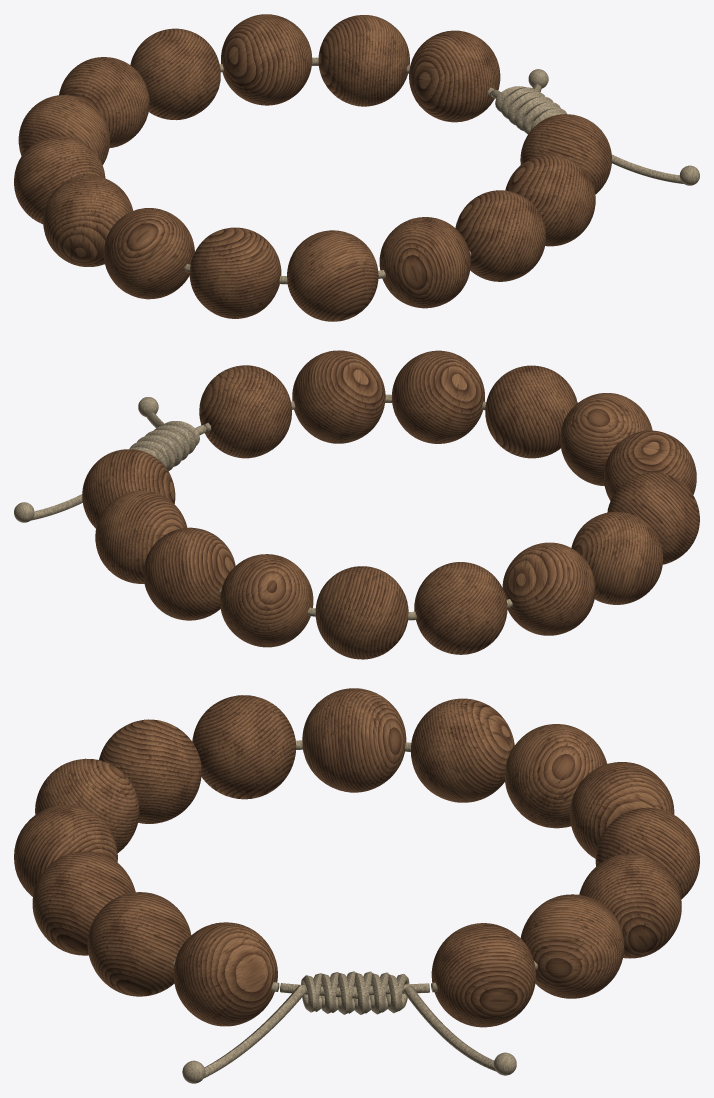
The model's file is orzech.glb.
3 views of the same model, one above another, from view 1: azimuth 30°, elevation 25°; view 2: azimuth 150°, elevation 25°; view 3: azimuth 270°, elevation 25° (orthographic). The views are drawn at different scales.
Parts seen in each view (by area): view 1: bead_round_1.003, bead_round_1, bead_round_0.003, bead_round_2, bead_round_2.003, bead_round_0, bead_round_2.002, bead_round_0.004, bead_round_0.001, bead_round_1.002, bead_round_1.004, bead_round_1.001 (+4 smaller); view 2: bead_round_1.001, bead_round_1.004, bead_round_0.001, bead_round_0.004, bead_round_2.001, bead_round_0.002, bead_round_2.004, bead_round_2, bead_round_2.003, bead_round_1.002, bead_round_1, bead_round_1.003 (+3 smaller); view 3: bead_round_0, bead_round_1.002, bead_round_2.004, bead_round_0.002, bead_round_2.002, bead_round_1, bead_round_1.004, bead_round_2.001, bead_round_0.003, bead_round_2, bead_round_0.004, bead_round_1.001 (+5 smaller).
Boxes of the visible parts, x1,y1,x2,y2 form: bead_round_1.003: (287,230,378,321); bead_round_1: (318,15,409,106); bead_round_0.003: (189,227,281,318); bead_round_2: (221,14,312,105); bead_round_2.003: (379,217,470,308); bead_round_0: (409,30,500,122); bead_round_2.002: (103,208,194,299); bead_round_0.004: (455,190,546,281); bead_round_0.001: (130,28,220,120); bead_round_1.002: (43,175,133,266); bead_round_1.004: (505,154,595,246); bead_round_1.001: (59,57,149,148); bead_round_1.001: (315,566,408,659); bead_round_1.004: (292,350,385,443); bead_round_0.001: (220,554,313,647); bead_round_0.004: (391,350,484,443); bead_round_2.001: (414,562,507,654); bead_round_0.002: (502,542,595,635); bead_round_2.004: (199,365,291,458); bead_round_2: (143,527,235,620); bead_round_2.003: (485,365,577,458); bead_round_1.002: (571,511,663,604); bead_round_1: (95,490,187,583); bead_round_1.003: (560,393,652,485); bead_round_0: (431,923,535,1027); bead_round_1.002: (302,688,406,792); bead_round_2.004: (173,922,277,1026); bead_round_0.002: (410,698,514,802); bead_round_2.002: (192,695,296,799); bead_round_1: (520,894,624,998); bead_round_1.004: (87,892,191,996); bead_round_2.001: (504,724,607,828); bead_round_0.003: (99,719,201,823); bead_round_2: (579,854,681,958); bead_round_0.004: (32,851,135,955); bead_round_1.001: (570,762,674,858).
Size of the model in its own units: 7.3 by 1 by 6.57.
Materials: 4 (4 with a texture image).
